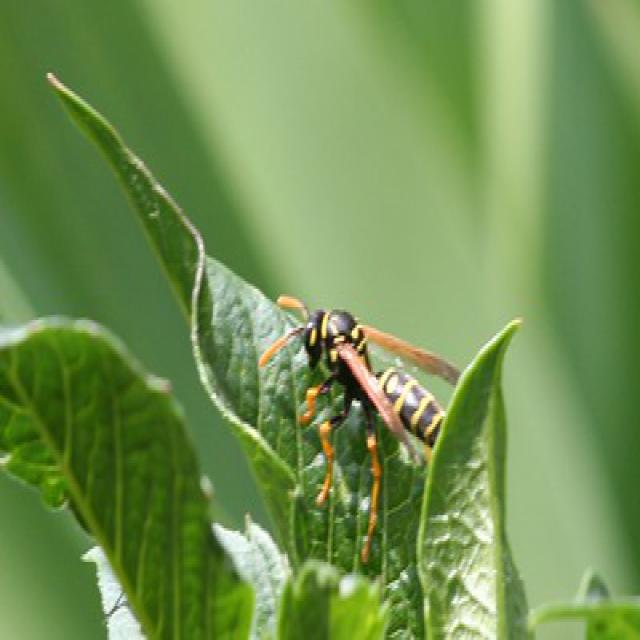Guepe: (249, 274, 482, 572)
